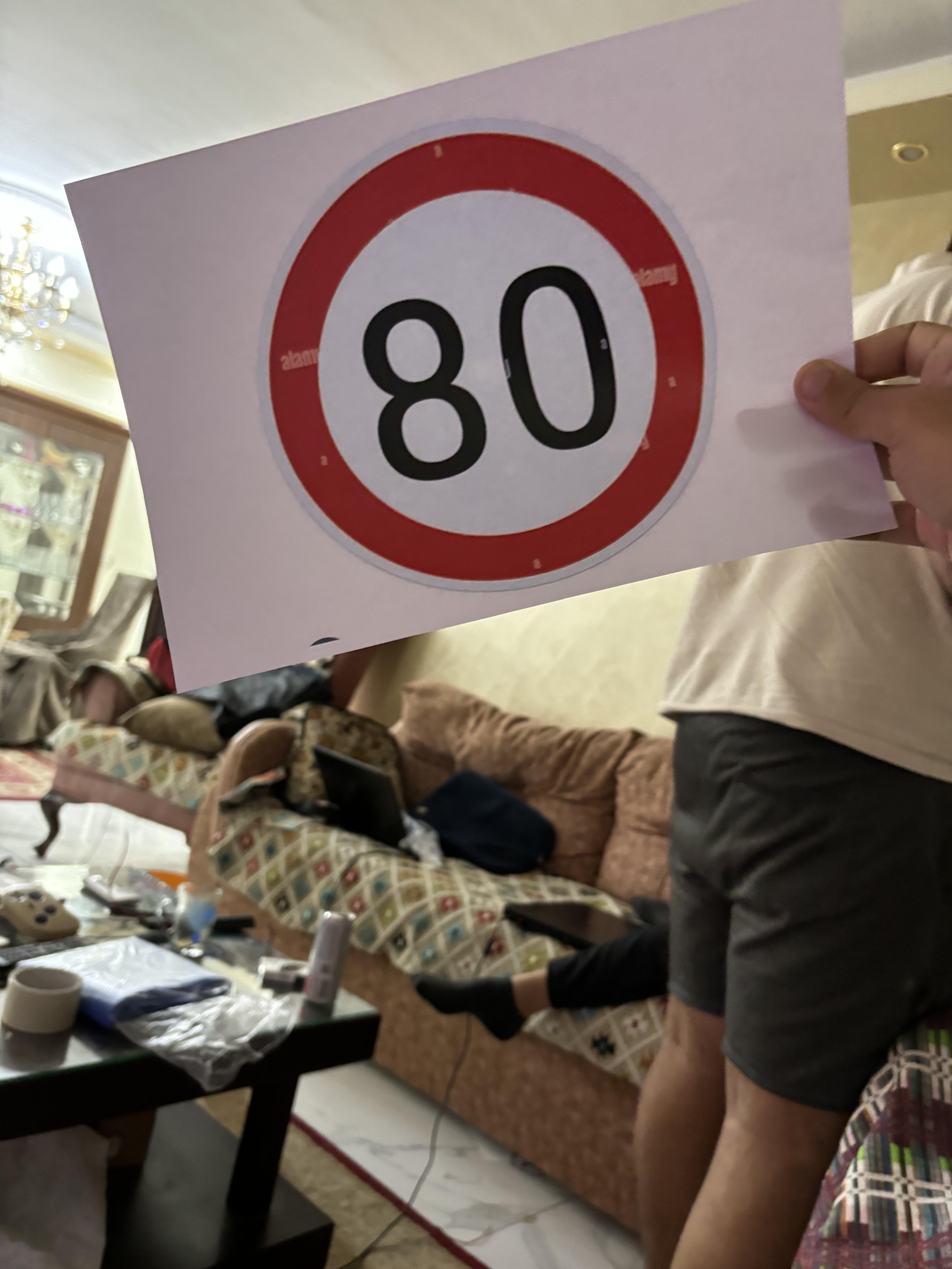80-Speed: (249, 118, 730, 593)
